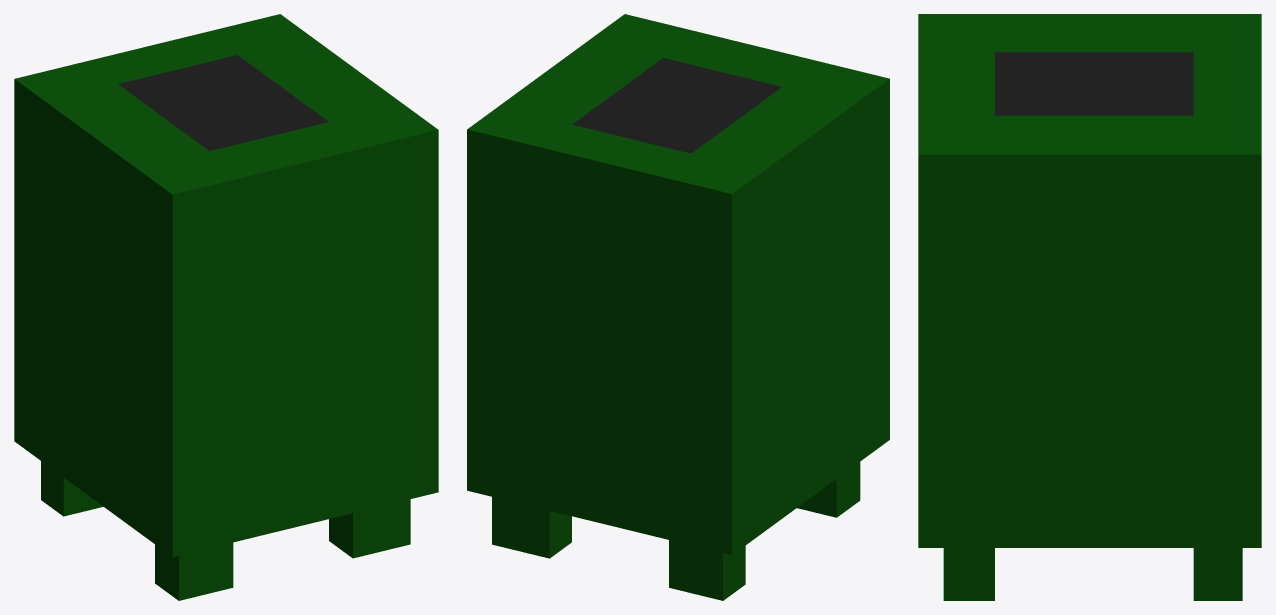
File: Papelera.fbx
3 views of the same model, side by side, from view 1: azimuth 30°, elevation 25°; view 2: azimuth 150°, elevation 25°; view 3: azimuth 270°, elevation 25° (orthographic). The views are drawn at different scales.
Parts seen in each view (by area): view 1: PApelera; view 2: PApelera; view 3: PApelera.
Part boxes in pixels (x1=…): PApelera: x1=14, y1=14, x2=438, y2=600; PApelera: x1=467, y1=14, x2=889, y2=600; PApelera: x1=918, y1=14, x2=1261, y2=600.
Size of the model in its own units: 1.24 by 1.87 by 1.28.
